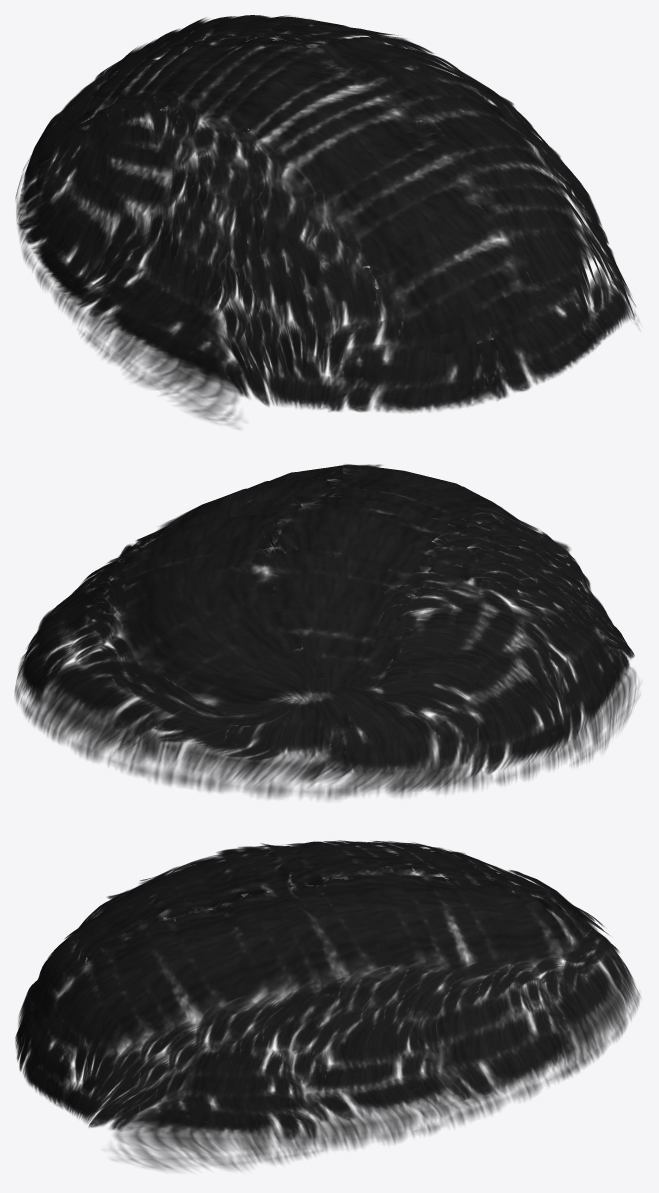
Rendered from Round_Straight_Caesar.glb.
3 views of the same model, one above another, from view 1: azimuth 30°, elevation 25°; view 2: azimuth 150°, elevation 25°; view 3: azimuth 270°, elevation 25° (orthographic). The views are drawn at different scales.
Parts seen in each view (by area): view 1: s4studio_mesh_4.001_geom.006; view 2: s4studio_mesh_4.001_geom.006; view 3: s4studio_mesh_4.001_geom.006.
Boxes of the visible parts, box(x1,y1,x2,y2) form: s4studio_mesh_4.001_geom.006: box(15, 15, 638, 425); s4studio_mesh_4.001_geom.006: box(14, 464, 639, 799); s4studio_mesh_4.001_geom.006: box(15, 840, 640, 1170).
Bounding box in the file's own units: 0.175 × 0.081 × 0.2089.
Materials: 1 (1 with a texture image).
